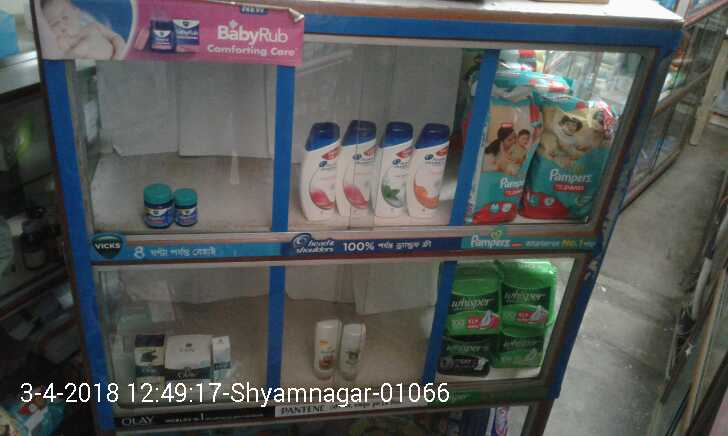vicks: (140, 181, 197, 232)
